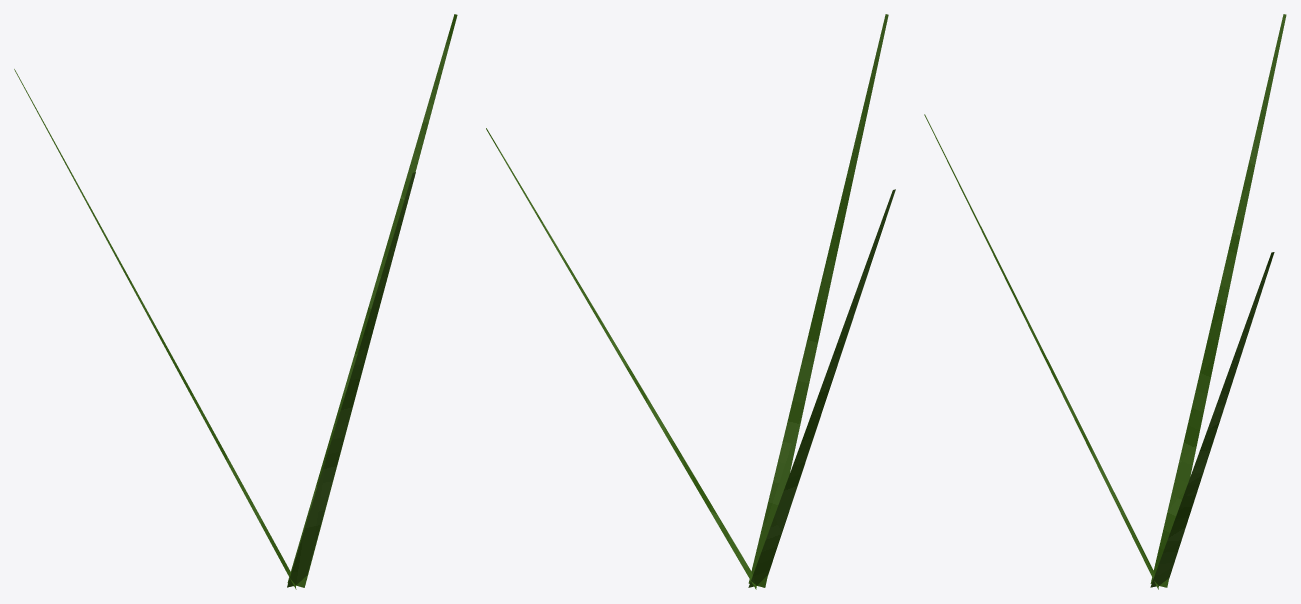
Rendered from fern02-lod2.glb.
3 views of the same model, side by side, from view 1: azimuth 30°, elevation 25°; view 2: azimuth 150°, elevation 25°; view 3: azimuth 270°, elevation 25° (orthographic). The views are drawn at different scales.
Parts seen in each view (by area): view 1: TZ_ground_plant_Batch_00_LOD2; view 2: TZ_ground_plant_Batch_00_LOD2; view 3: TZ_ground_plant_Batch_00_LOD2.
Part boxes in pixels (bbox=[...]): TZ_ground_plant_Batch_00_LOD2: bbox=[14, 14, 457, 589]; TZ_ground_plant_Batch_00_LOD2: bbox=[486, 14, 895, 589]; TZ_ground_plant_Batch_00_LOD2: bbox=[924, 14, 1286, 589].
Bounding box in the file's own units: 0.6349 × 0.72 × 0.4963.
1 material, 1 textured.
